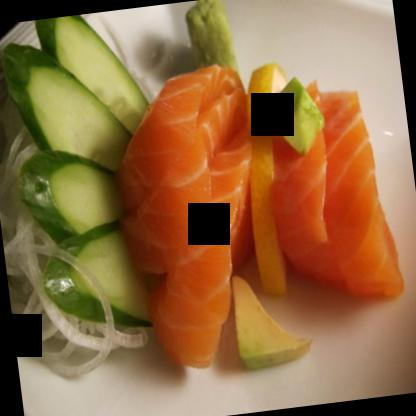salmon: (113, 43, 411, 381)
